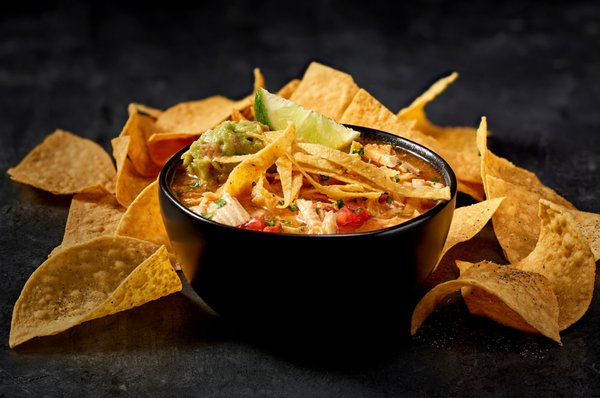sushi: (159, 65, 458, 336)
